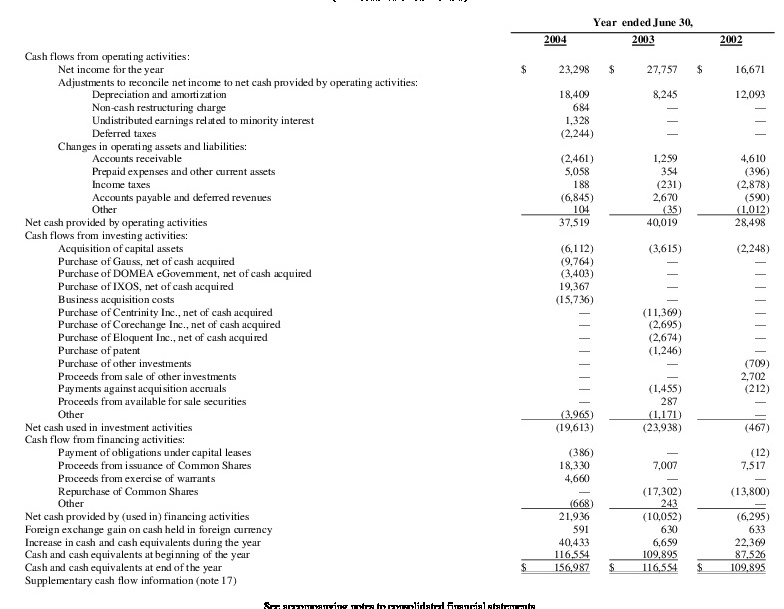table: (0, 0, 784, 609)
